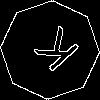K: (25, 25, 82, 81)
